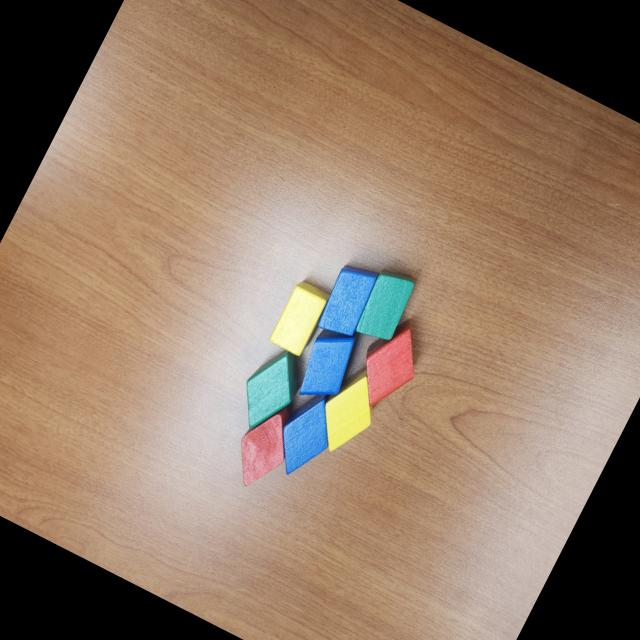blue: (264, 384, 349, 486), (286, 318, 366, 413), (312, 257, 383, 344)
green: (226, 340, 312, 441), (349, 262, 421, 350)
red: (343, 308, 437, 421), (224, 393, 308, 496)
yellow: (307, 357, 394, 462), (267, 278, 332, 359)
